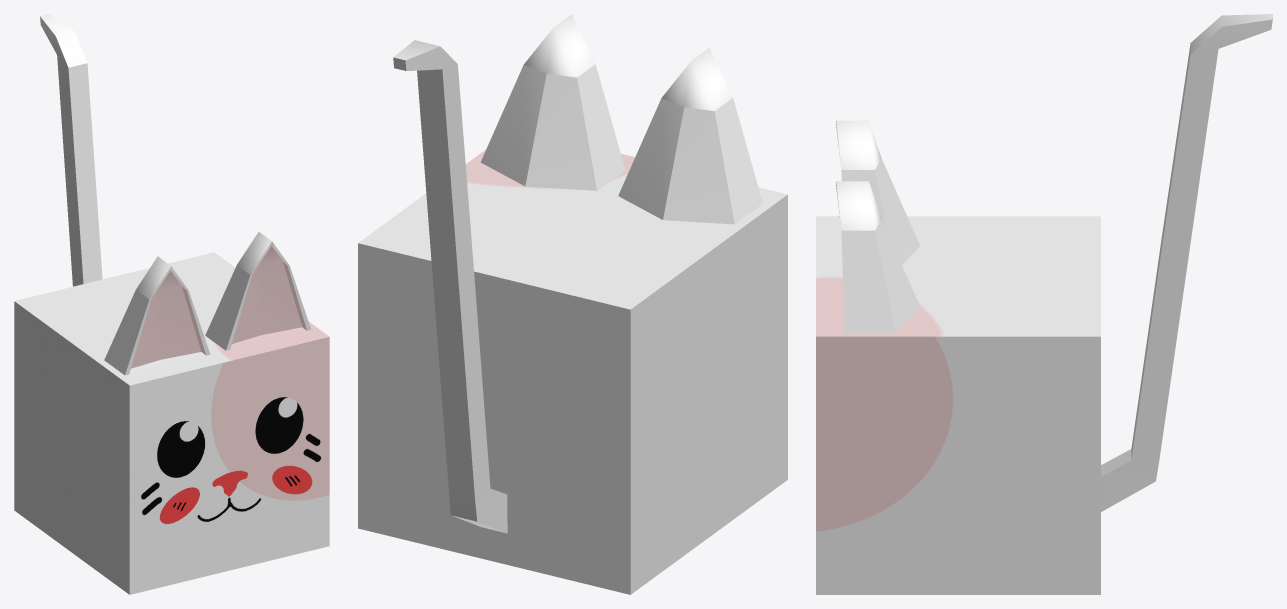
The model's file is PurrfectCat.fbx.
3 views of the same model, side by side, from view 1: azimuth 30°, elevation 25°; view 2: azimuth 150°, elevation 25°; view 3: azimuth 270°, elevation 25° (orthographic). The views are drawn at different scales.
Parts seen in each view (by area): view 1: CatMod; view 2: CatMod; view 3: CatMod.
Part boxes in pixels (<box>): CatMod: <box>14,14,329,594</box>; CatMod: <box>358,14,787,594</box>; CatMod: <box>816,14,1272,594</box>.
Size of the model in its own units: 0.9997 by 2.01 by 1.6.
